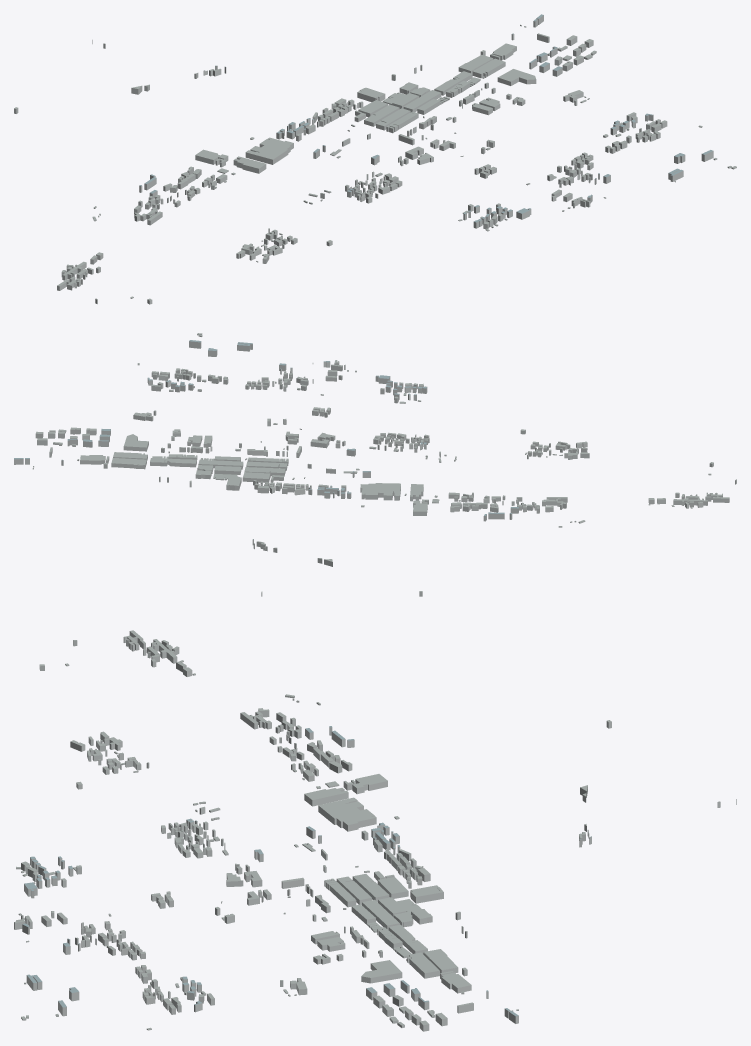
Rendered from far.glb.
The picture shows the model from 3 angles, top to bottom: view 1: azimuth 30°, elevation 25°; view 2: azimuth 150°, elevation 25°; view 3: azimuth 270°, elevation 25°; orthographic projection. The views are drawn at different scales.
Bounding box in the file's own units: 2144 × 22.4 × 1656.
